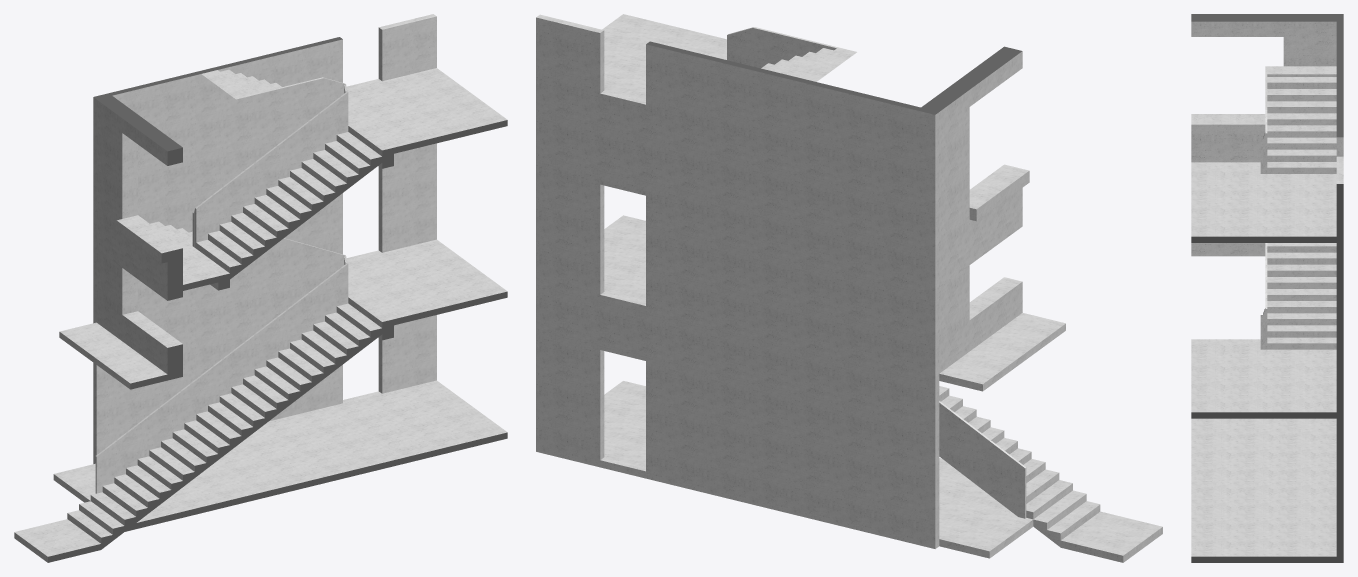
File: bottom-landing-entrance-straight.glb
3 renders of one model, left to right at view 1: azimuth 30°, elevation 25°; view 2: azimuth 150°, elevation 25°; view 3: azimuth 270°, elevation 25°, orthographic. The views are drawn at different scales.
Visible parts, largest first — view 1: 底层中间平台下作出入口的处理方式-底层直跑; view 2: 底层中间平台下作出入口的处理方式-底层直跑; view 3: 底层中间平台下作出入口的处理方式-底层直跑.
Boxes of the visible parts, <box> form: 底层中间平台下作出入口的处理方式-底层直跑: <box>14,14,507,562</box>; 底层中间平台下作出入口的处理方式-底层直跑: <box>536,14,1162,562</box>; 底层中间平台下作出入口的处理方式-底层直跑: <box>1191,14,1343,562</box>.
Bounding box in the file's own units: 11.78 × 9.36 × 3.3.
3 materials, 1 textured.
